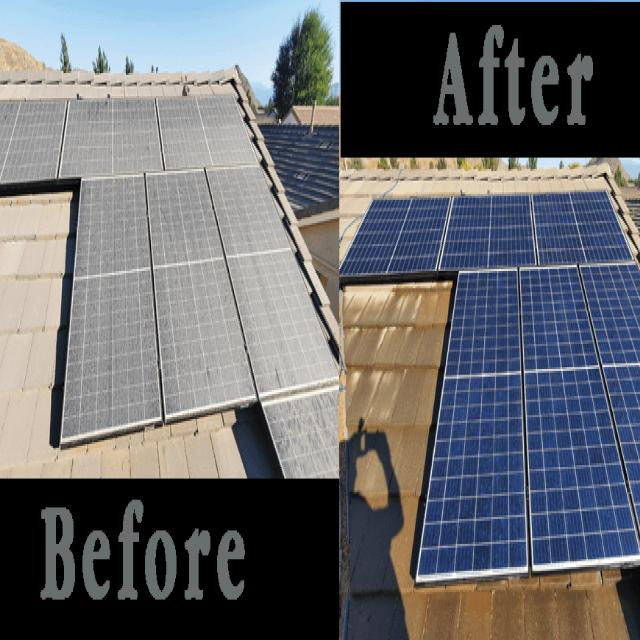dust-solar-panel: (0, 84, 342, 483)
